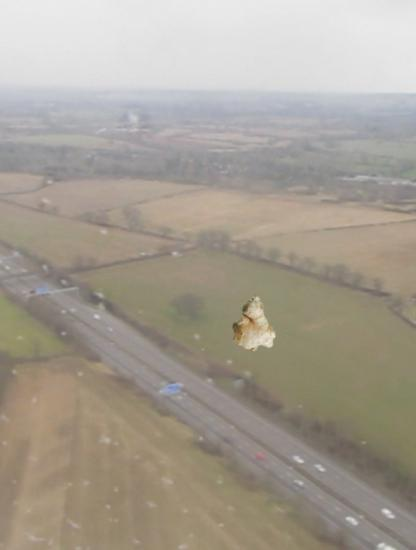Ginger: (227, 295, 284, 352)
